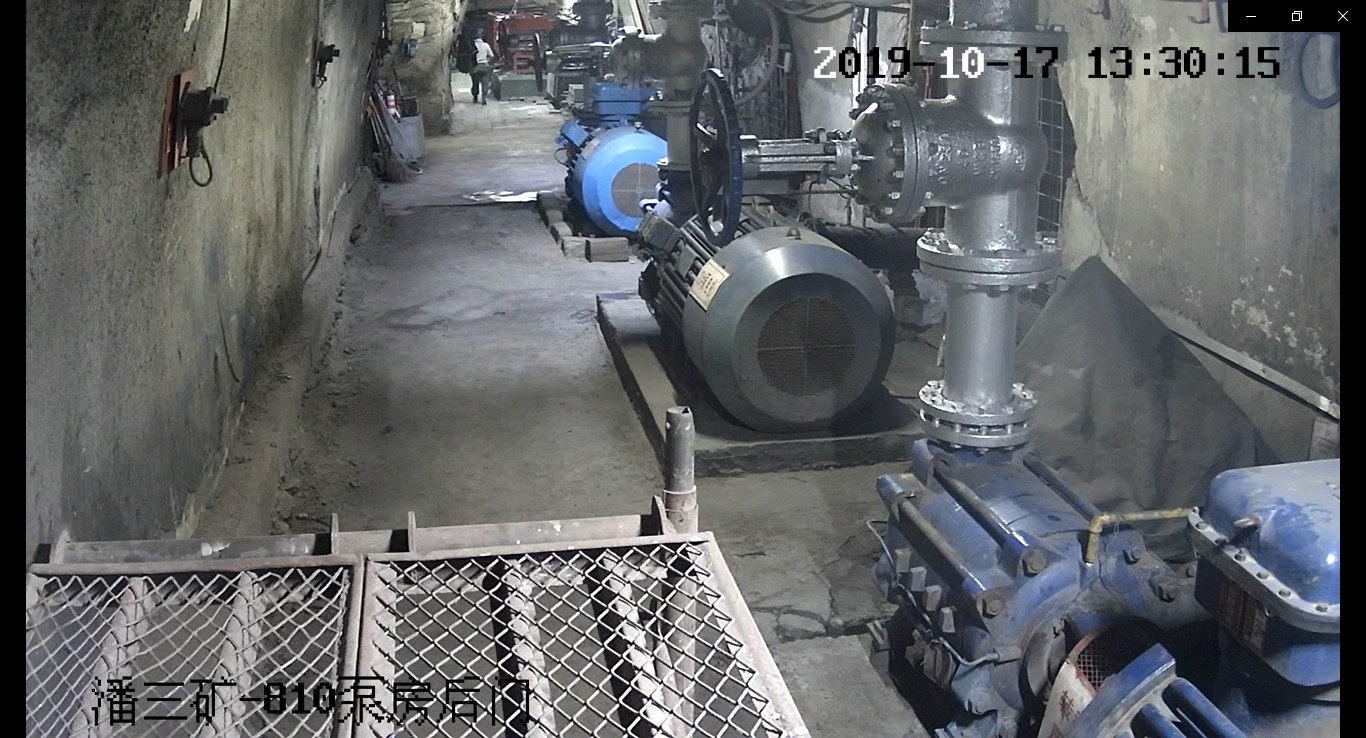helmet: (474, 28, 486, 37)
